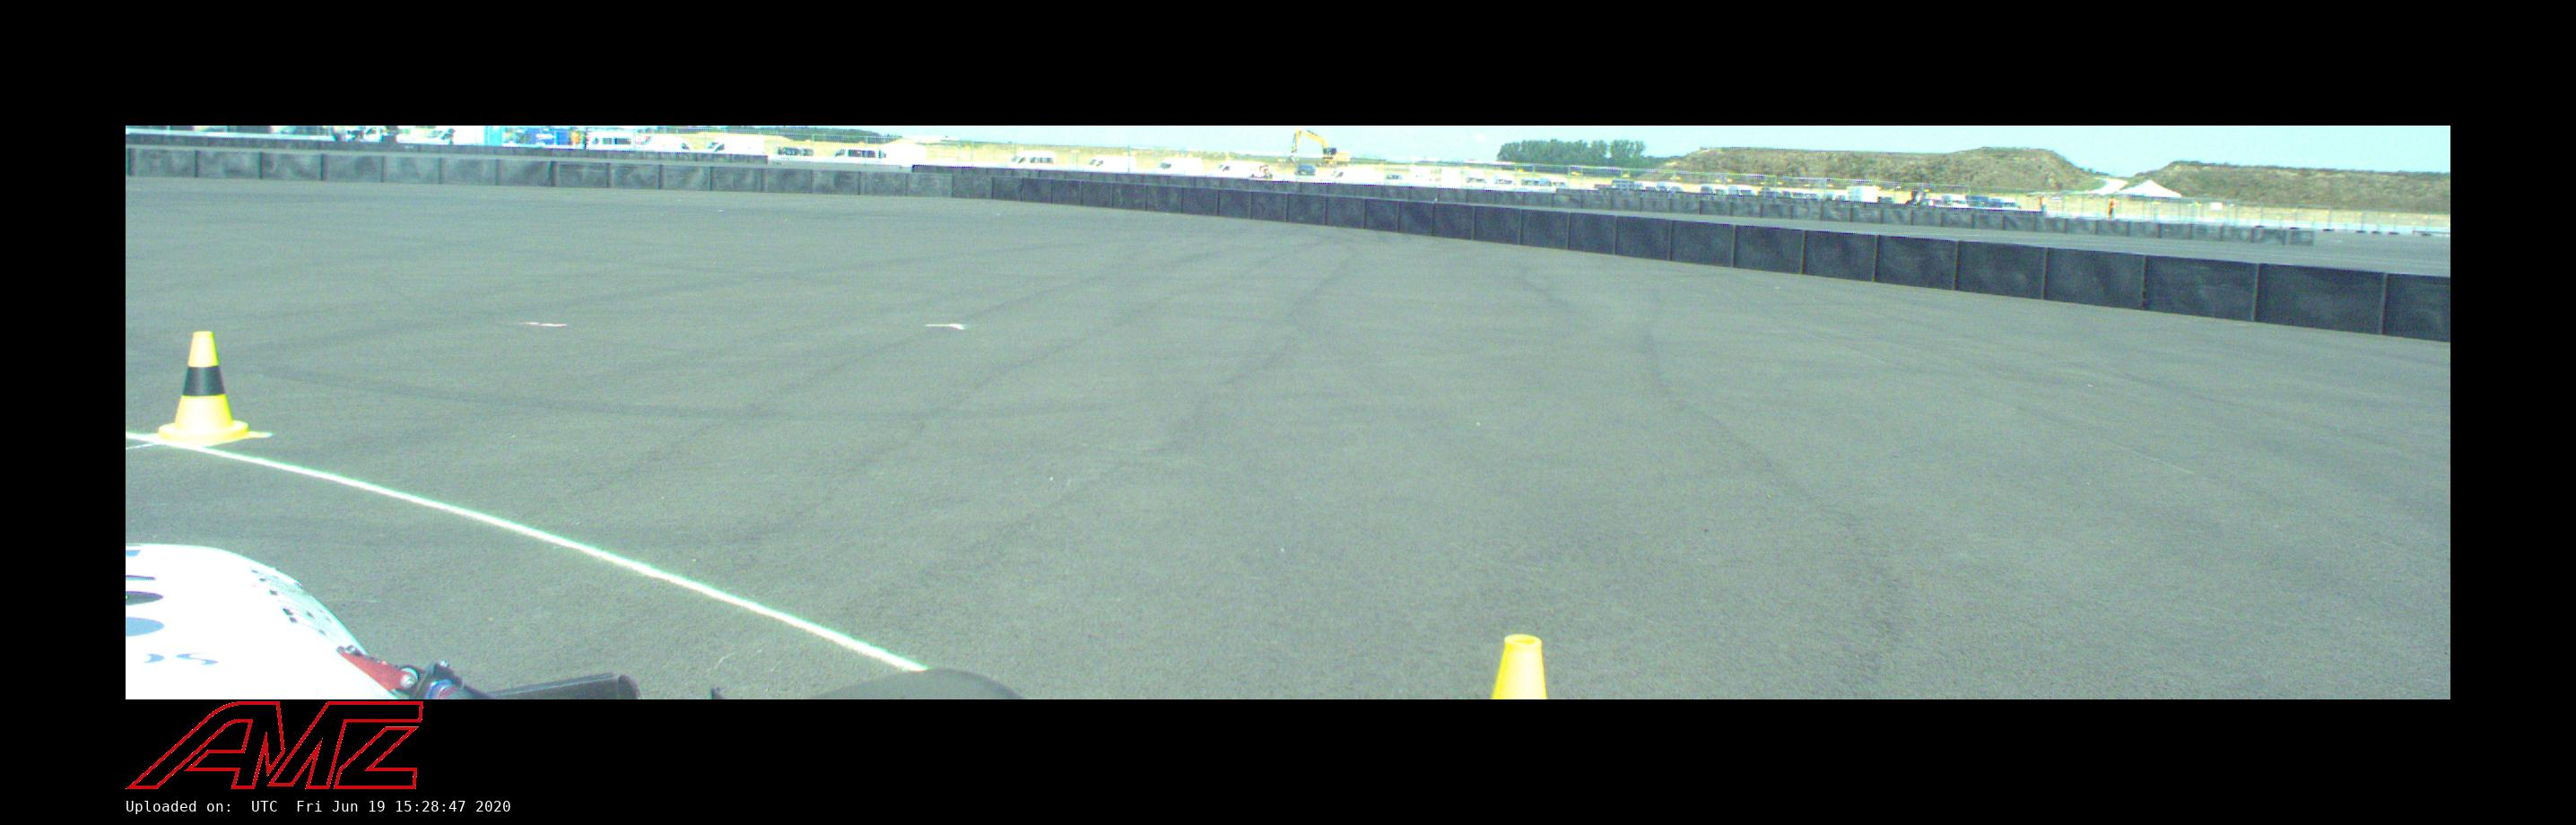yellow_cone: (152, 332, 257, 446), (1491, 634, 1546, 699)
